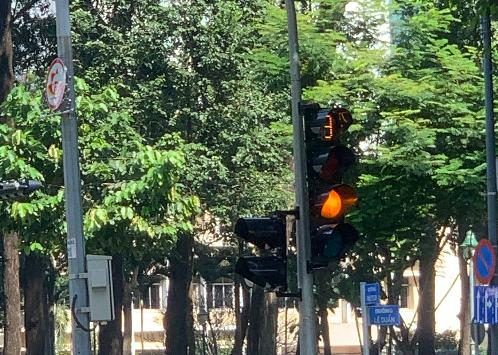yellow_light: (307, 144, 359, 263)
